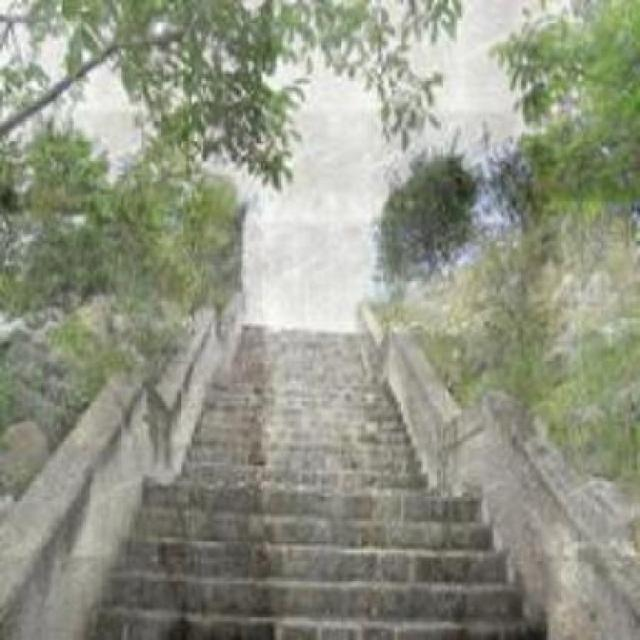stair: (89, 300, 537, 640)
